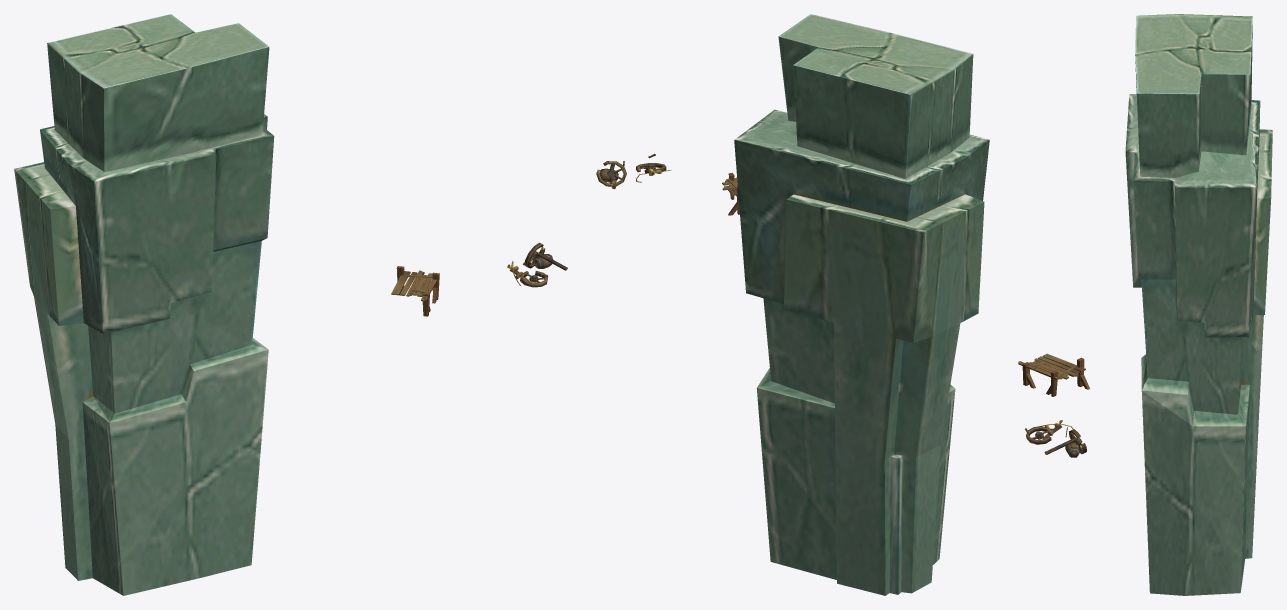
Rendered from wujian01.FBX.
3 renders of one model, left to right at view 1: azimuth 30°, elevation 25°; view 2: azimuth 150°, elevation 25°; view 3: azimuth 270°, elevation 25°, orthographic. The views are drawn at different scales.
Visible parts, largest first — view 1: Object160; view 2: Object160; view 3: Object160.
Part boxes in pixels (x1,y1,x2,y2): Object160: [14, 14, 567, 595]; Object160: [596, 14, 989, 595]; Object160: [1018, 14, 1272, 595].
Size of the model in its own units: 1422 by 1570 by 717.
